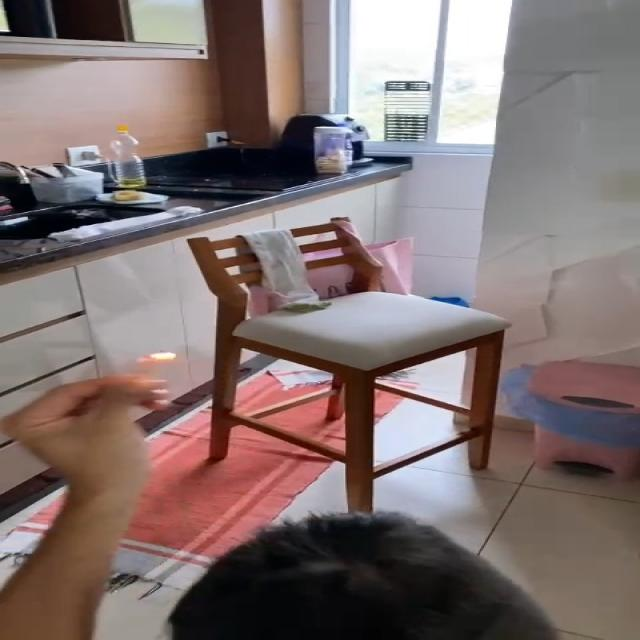fogo-ypXI: (150, 351, 177, 361)
